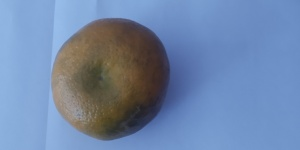BAD: (50, 14, 170, 143)
